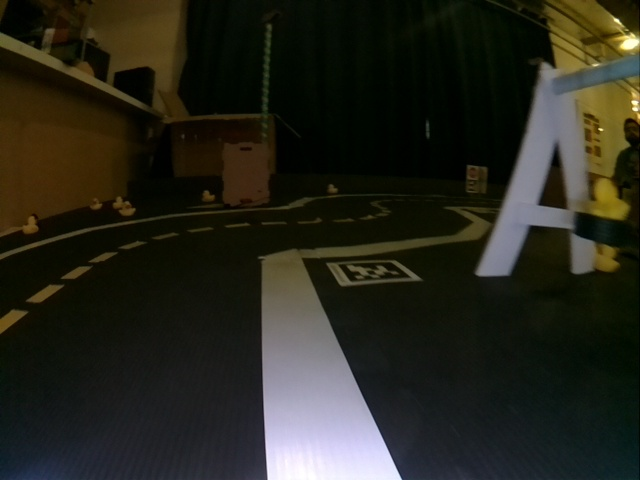Duckie: (22, 217, 38, 233), (120, 202, 135, 215), (202, 190, 215, 201), (90, 198, 101, 209), (327, 184, 338, 193), (112, 197, 122, 206)
QR code: (329, 260, 421, 285)
